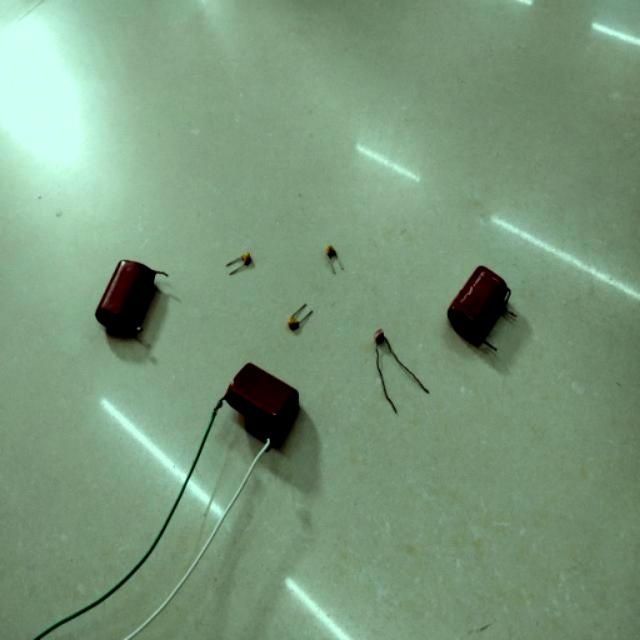capacitor: (226, 365, 299, 447), (448, 268, 508, 345), (96, 260, 155, 338), (288, 318, 299, 331), (328, 246, 337, 259), (243, 253, 251, 266)
